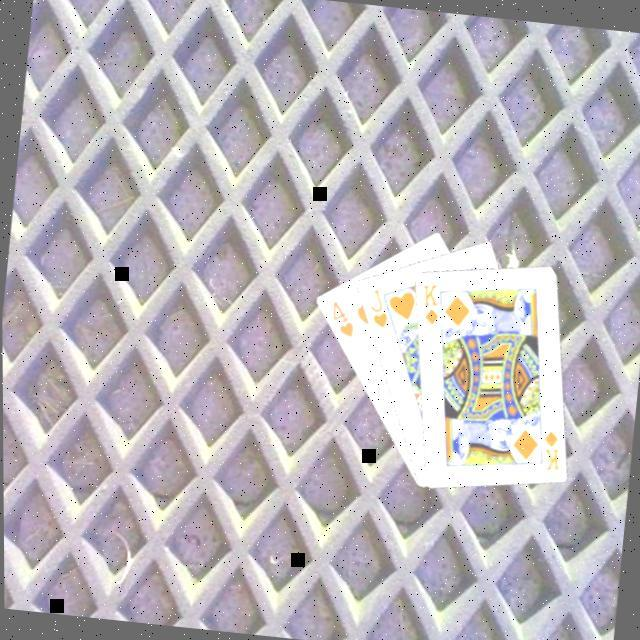4H: (322, 295, 356, 339)
JH: (362, 283, 391, 329)
KD: (412, 277, 442, 327), (534, 424, 563, 472)
